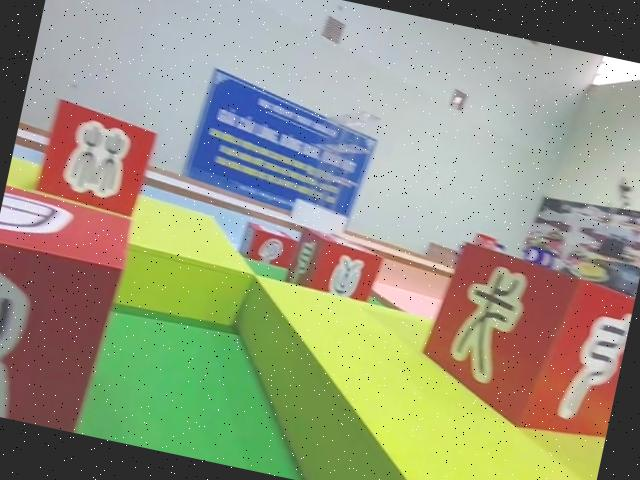R2 Fake: (402, 233, 640, 450), (0, 179, 140, 436), (29, 92, 160, 214), (279, 222, 386, 309), (232, 216, 306, 276)
